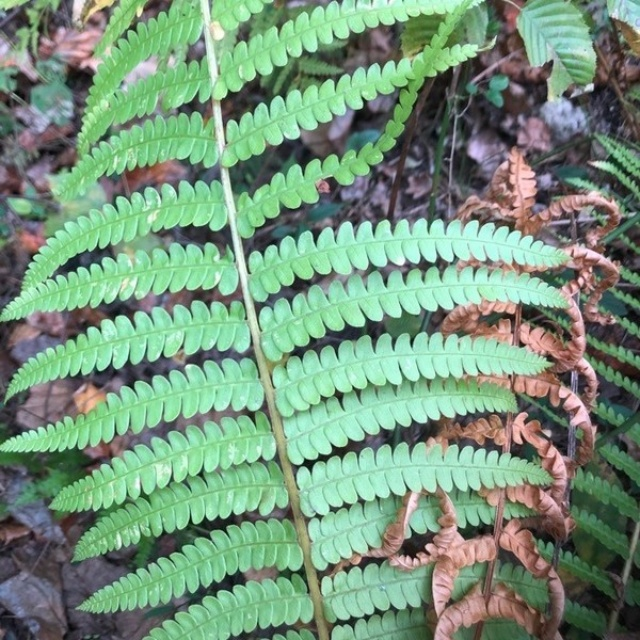obstacle: (34, 16, 509, 617)
